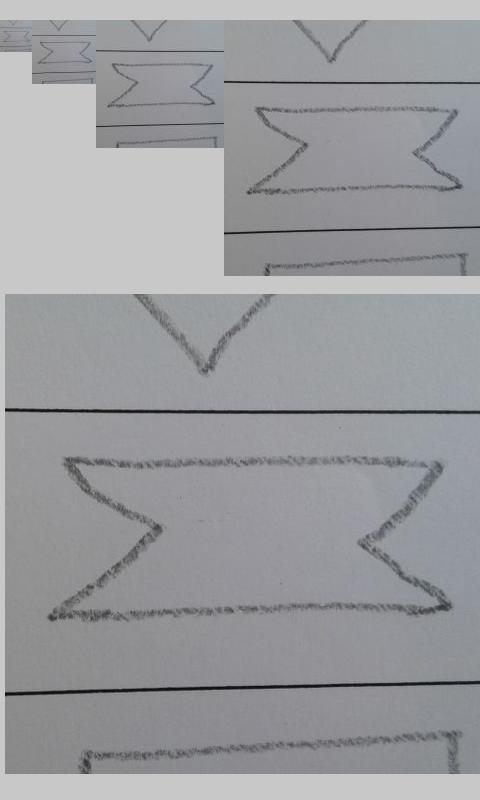edit_text: (48, 455, 450, 619), (248, 105, 462, 195), (106, 62, 216, 107), (38, 41, 92, 64), (3, 30, 30, 43)
